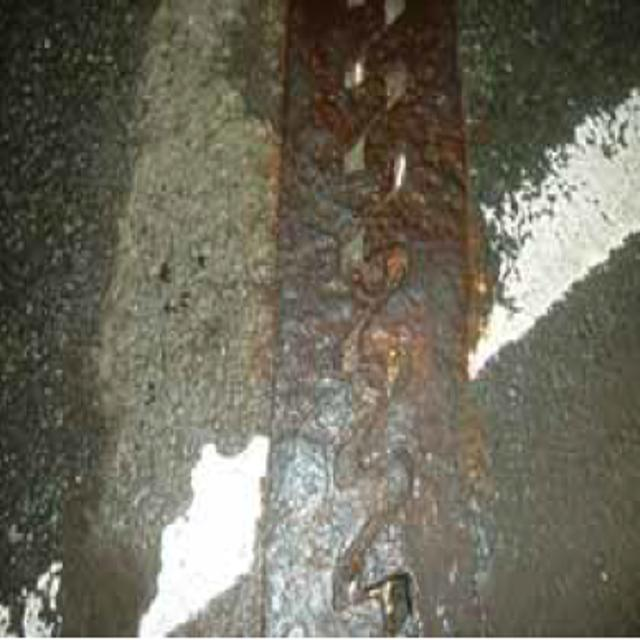corrosion: (254, 4, 499, 640)
